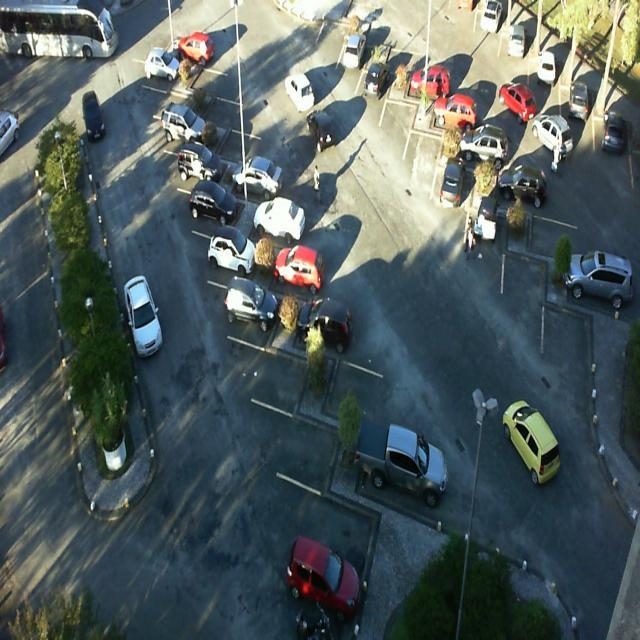space-empty: (304, 468, 388, 582), (271, 390, 348, 479), (317, 353, 388, 431), (245, 326, 312, 406), (542, 303, 591, 374), (533, 205, 585, 263), (503, 241, 543, 312), (202, 78, 258, 127), (400, 122, 442, 182), (315, 9, 352, 68), (380, 92, 416, 152), (222, 117, 272, 160), (366, 11, 411, 48), (192, 58, 237, 94), (389, 38, 428, 74)
space-occupied: (365, 425, 432, 507), (223, 270, 286, 343), (302, 288, 362, 358), (272, 235, 337, 297), (570, 260, 630, 322), (204, 224, 262, 281), (254, 192, 315, 246), (192, 176, 248, 234), (237, 148, 295, 200), (468, 198, 507, 272), (496, 165, 552, 214), (171, 139, 224, 188), (431, 163, 472, 225), (158, 101, 207, 151), (464, 124, 514, 170), (410, 61, 458, 104), (354, 63, 392, 116), (335, 40, 372, 94), (151, 75, 197, 116), (561, 75, 590, 136), (139, 46, 182, 87), (434, 94, 478, 134), (175, 31, 220, 68), (500, 30, 532, 79), (529, 50, 560, 100)
